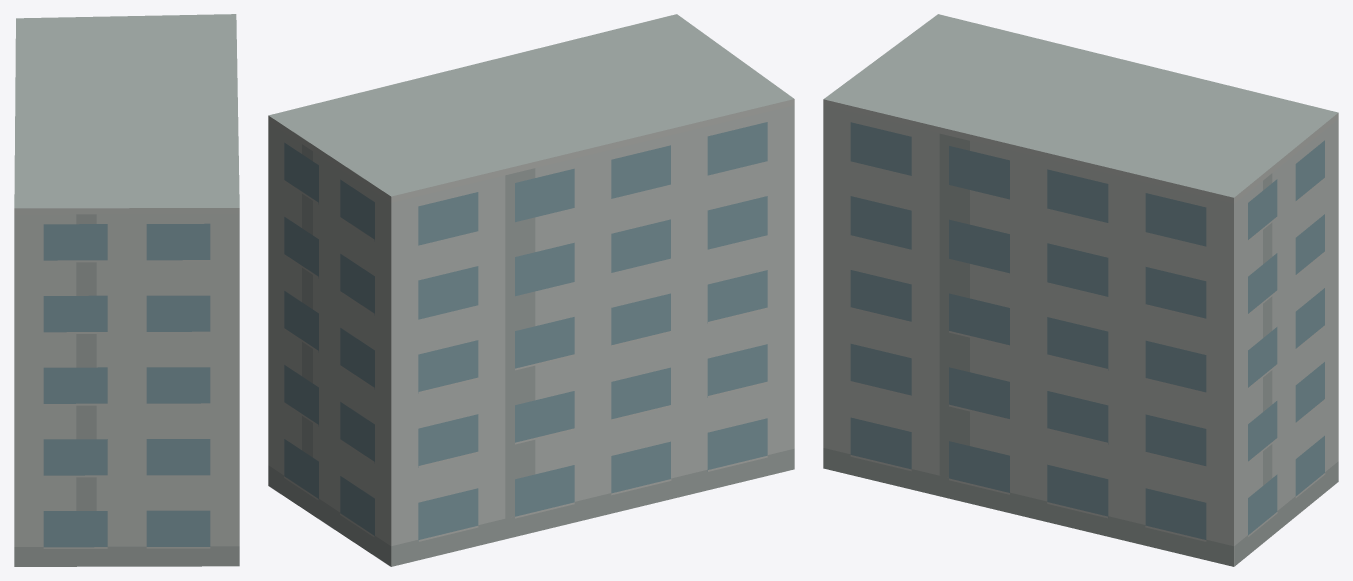
Rendered from survey-upis-32877625.glb.
3 renders of one model, left to right at view 1: azimuth 30°, elevation 25°; view 2: azimuth 150°, elevation 25°; view 3: azimuth 270°, elevation 25°, orthographic. The views are drawn at different scales.
Parts seen in each view (by area): view 1: survey-upis-32877625.tmp; view 2: survey-upis-32877625.tmp; view 3: survey-upis-32877625.tmp.
Boxes of the visible parts, x1,y1,x2,y2 form: survey-upis-32877625.tmp: (14, 14, 239, 566); survey-upis-32877625.tmp: (268, 14, 794, 566); survey-upis-32877625.tmp: (823, 14, 1338, 566).
Size of the model in its own units: 15.06 by 14.1 by 17.85.
